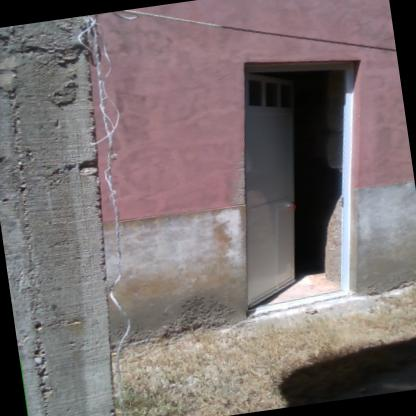semi: (234, 40, 407, 322)
